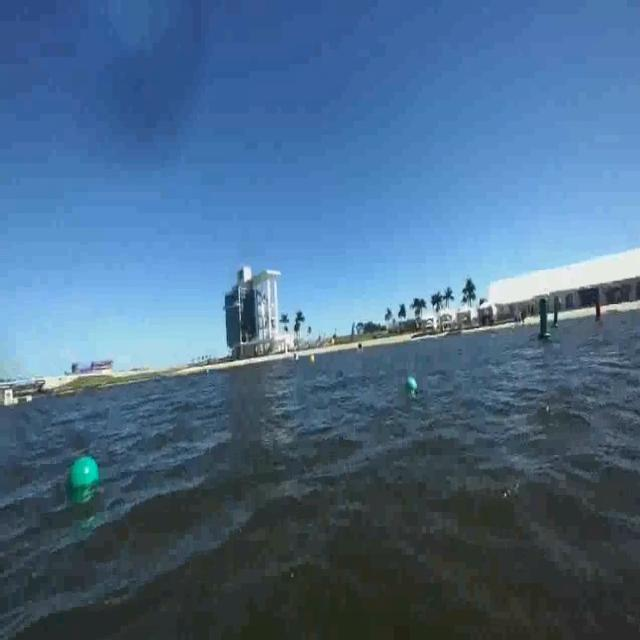green-buoy: (69, 452, 103, 490), (408, 378, 417, 392)
green-column-buoy: (536, 297, 550, 342), (552, 299, 562, 329)
yellow-buoy: (307, 354, 314, 366)
